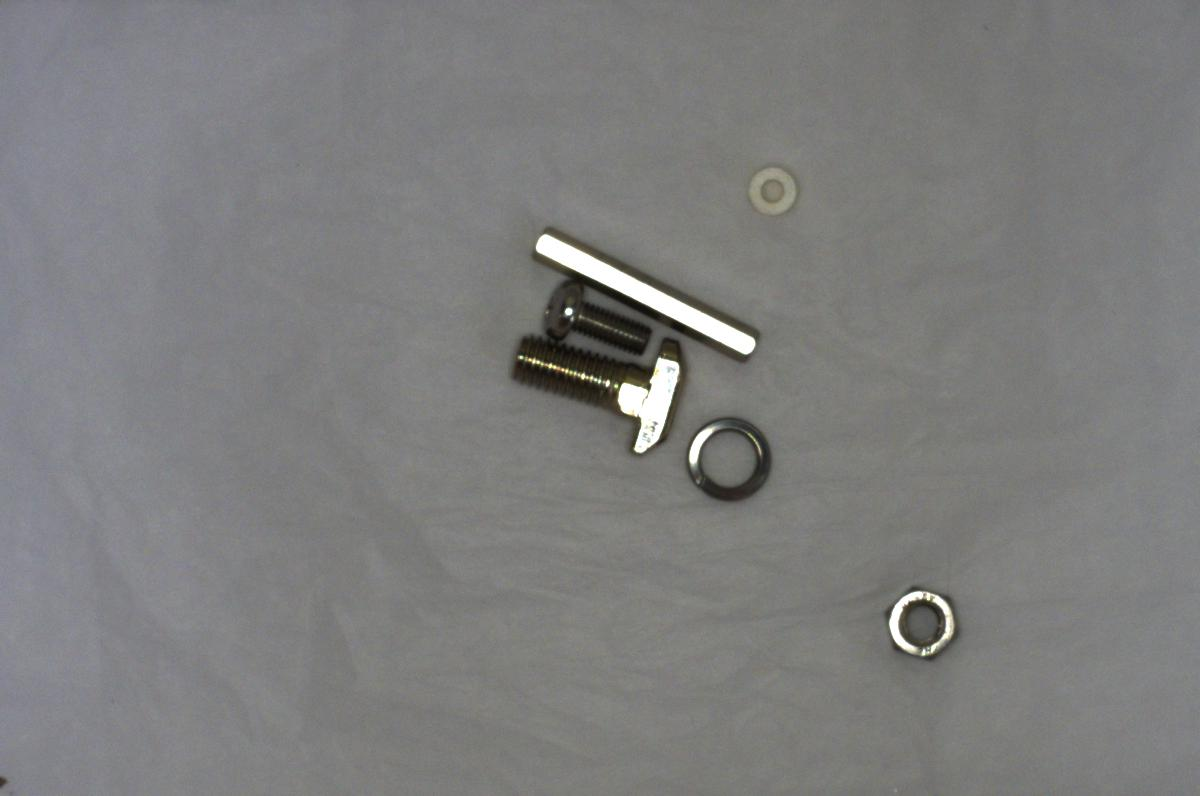Double hexagonal column: (521, 223, 764, 363)
Hexagon nut: (866, 577, 971, 673)
Plastic cushion pillar: (734, 159, 803, 222)
Round head screw: (525, 269, 658, 358)
Spring washer: (675, 410, 778, 508)
T-shaped screw: (501, 327, 694, 460)
